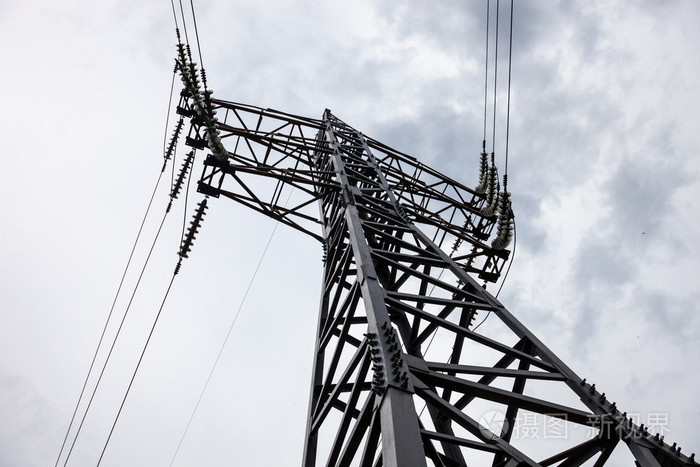insulator: (198, 87, 229, 155), (177, 201, 208, 261), (493, 188, 522, 248), (169, 152, 193, 199), (480, 150, 501, 202), (164, 119, 182, 159)
